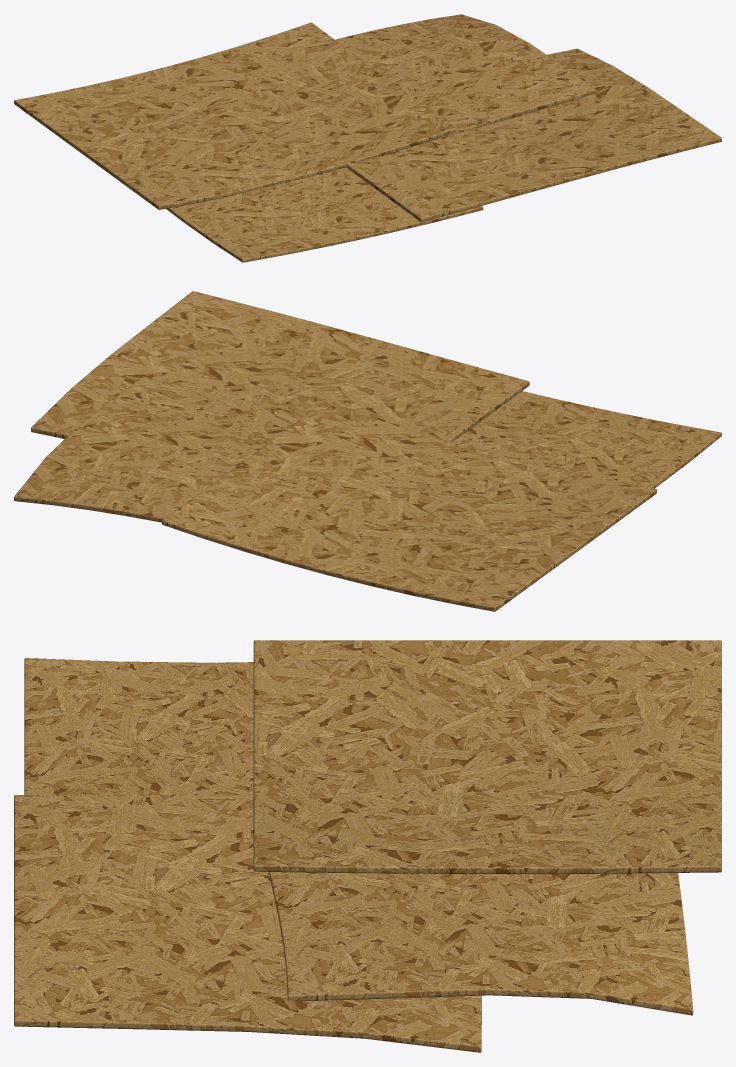
File: WoodenBoards_SM.FBX
3 views of the same model, one above another, from view 1: azimuth 30°, elevation 25°; view 2: azimuth 150°, elevation 25°; view 3: azimuth 270°, elevation 25° (orthographic). The views are drawn at different scales.
Visible parts, largest first — view 1: WoodenBoard_SM, WoodenBoard00, WoodenBoard01, WoodenBoard02; view 2: WoodenBoard_SM, WoodenBoard00, WoodenBoard01, WoodenBoard02; view 3: WoodenBoard_SM, WoodenBoard00, WoodenBoard01, WoodenBoard02.
Boxes of the visible parts, x1=… form: WoodenBoard_SM: x1=14, y1=22, x2=456, y2=209; WoodenBoard00: x1=346, y1=48, x2=721, y2=222; WoodenBoard01: x1=335, y1=14, x2=596, y2=167; WoodenBoard02: x1=166, y1=167, x2=483, y2=262; WoodenBoard_SM: x1=162, y1=401, x2=656, y2=611; WoodenBoard00: x1=31, y1=291, x2=529, y2=442; WoodenBoard01: x1=14, y1=376, x2=306, y2=522; WoodenBoard02: x1=452, y1=391, x2=721, y2=488; WoodenBoard_SM: x1=253, y1=640, x2=721, y2=873; WoodenBoard00: x1=14, y1=795, x2=481, y2=1052; WoodenBoard01: x1=268, y1=872, x2=693, y2=1015; WoodenBoard02: x1=24, y1=658, x2=253, y2=794.
Size of what is drawn, in the model's own units: 487 by 23.01 by 378.
Materials: 1 (1 with a texture image).
